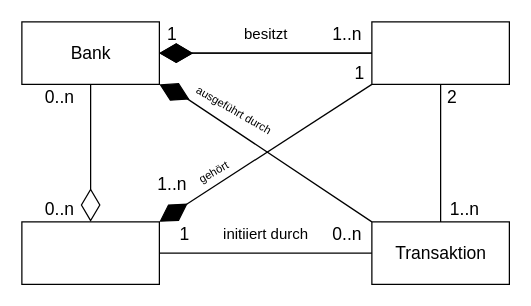
Some shapes in this 531 by 306 pixel diagram are drawn without their labels. The shapes that lost their labels are listed below. From the top down, each one's centre as x and y in pixels, then its label:
At [440,52]: "Konto".
At [90,252]: "Person".
